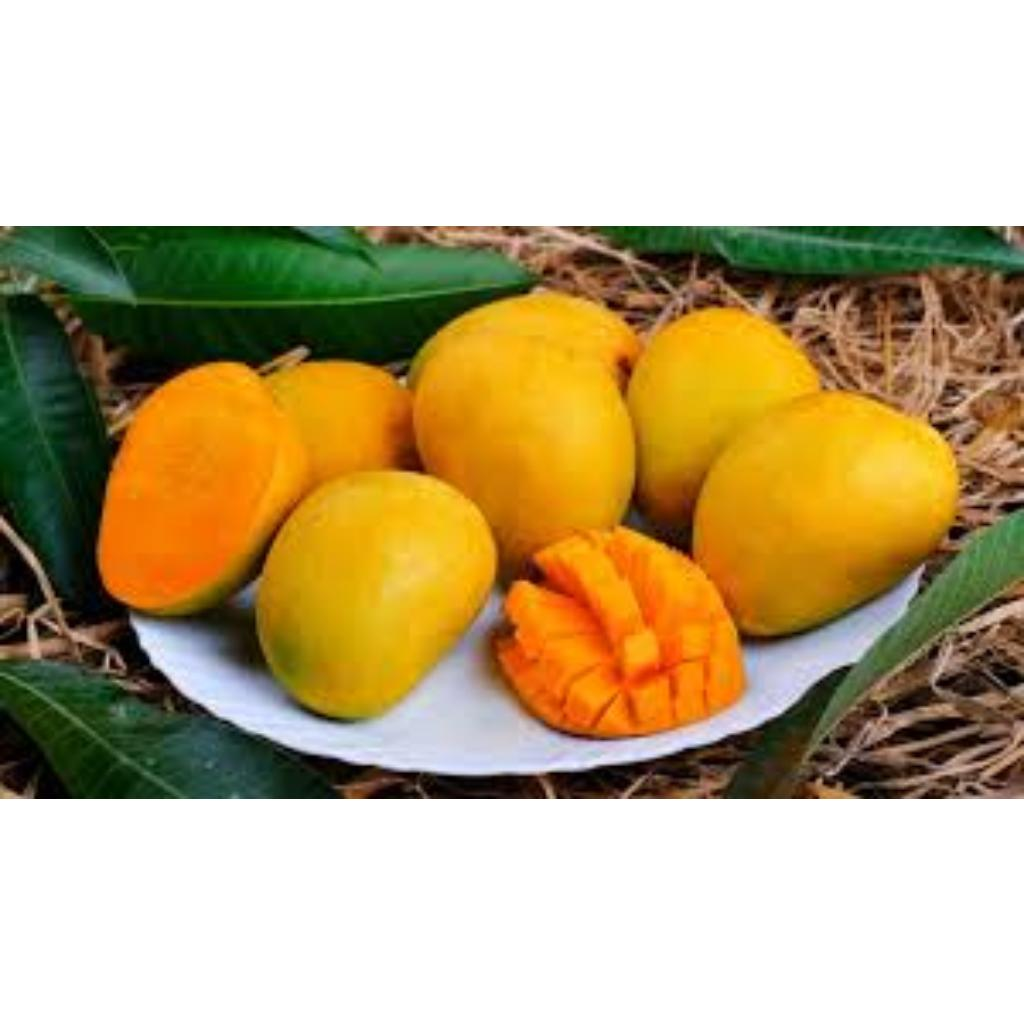mango: (693, 387, 955, 650), (91, 344, 321, 619), (256, 467, 502, 723), (479, 521, 750, 733), (435, 332, 630, 589), (628, 297, 825, 537), (277, 355, 412, 487)
